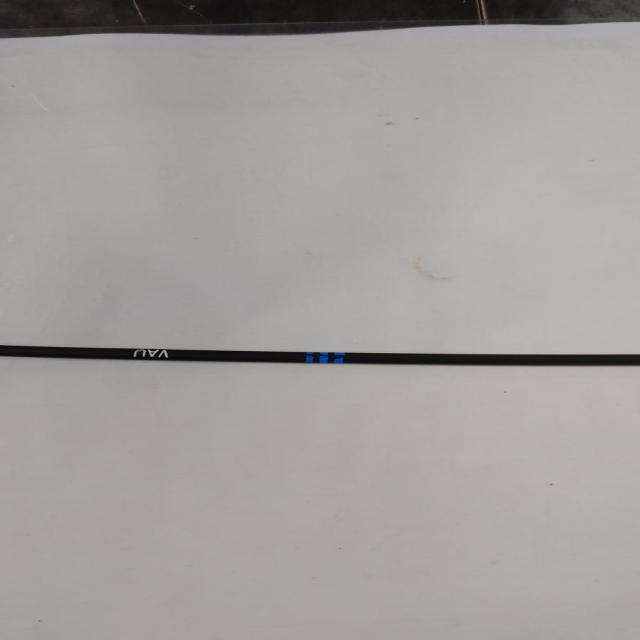blue: (305, 352, 345, 364)
